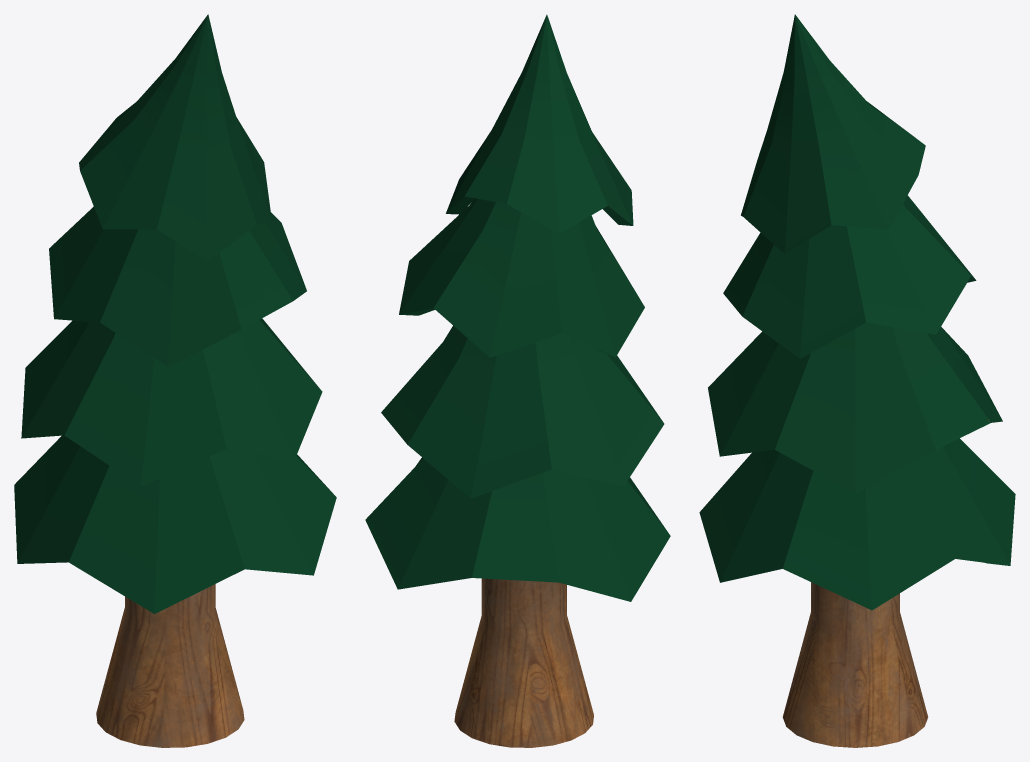
The model's file is PineTree.fbx.
3 views of the same model, side by side, from view 1: azimuth 30°, elevation 25°; view 2: azimuth 150°, elevation 25°; view 3: azimuth 270°, elevation 25° (orthographic). The views are drawn at different scales.
Parts seen in each view (by area): view 1: PineTree1; view 2: PineTree1; view 3: PineTree1.
Boxes of the visible parts, x1,y1,x2,y2 form: PineTree1: [14, 14, 336, 747]; PineTree1: [365, 14, 670, 747]; PineTree1: [699, 14, 1015, 747].
Size of the model in its own units: 2.39 by 5.88 by 2.39.
